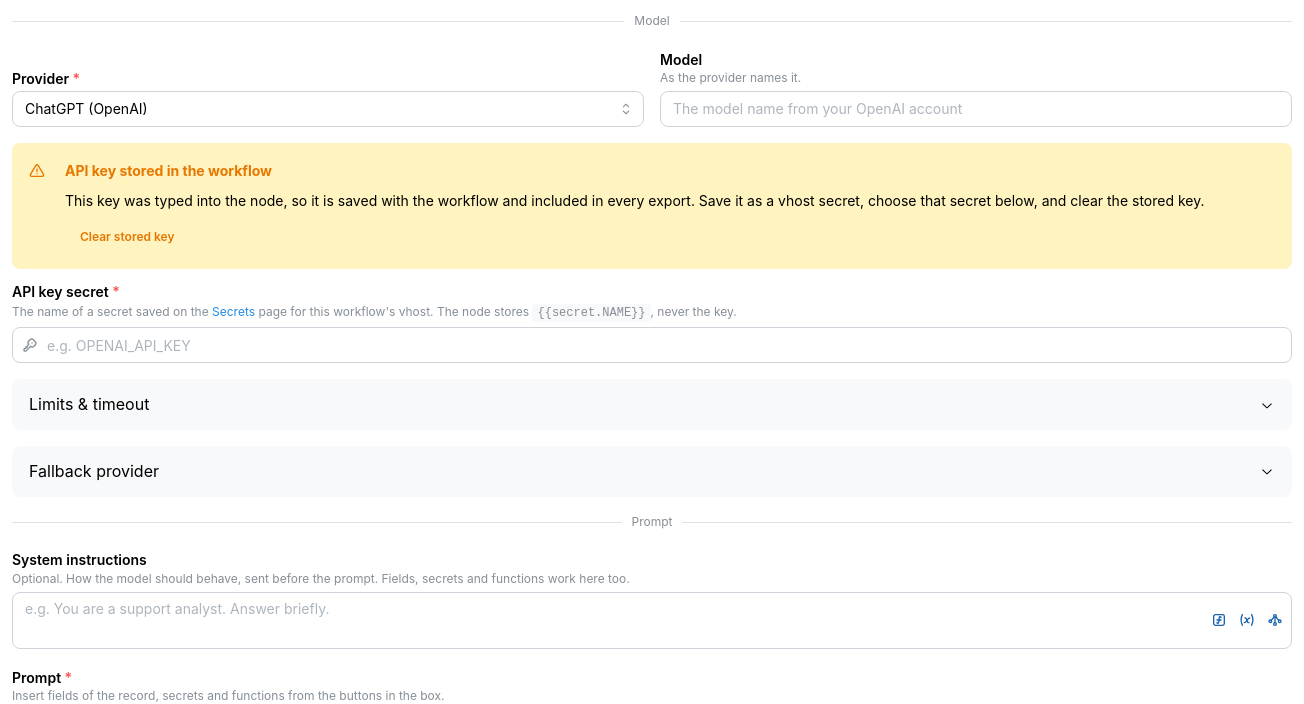
Scenario: AI connection settings › warns about a key typed into the node and can clear it
The image size is (1304, 704).
Expected: the text "API key stored in the workflow" is shown, [65, 160, 272, 182]
Expected: the text "export" is shown, [65, 192, 1204, 210]
Step 1. Click the button "Clear stored key" → (127, 237), box [65, 222, 190, 252]
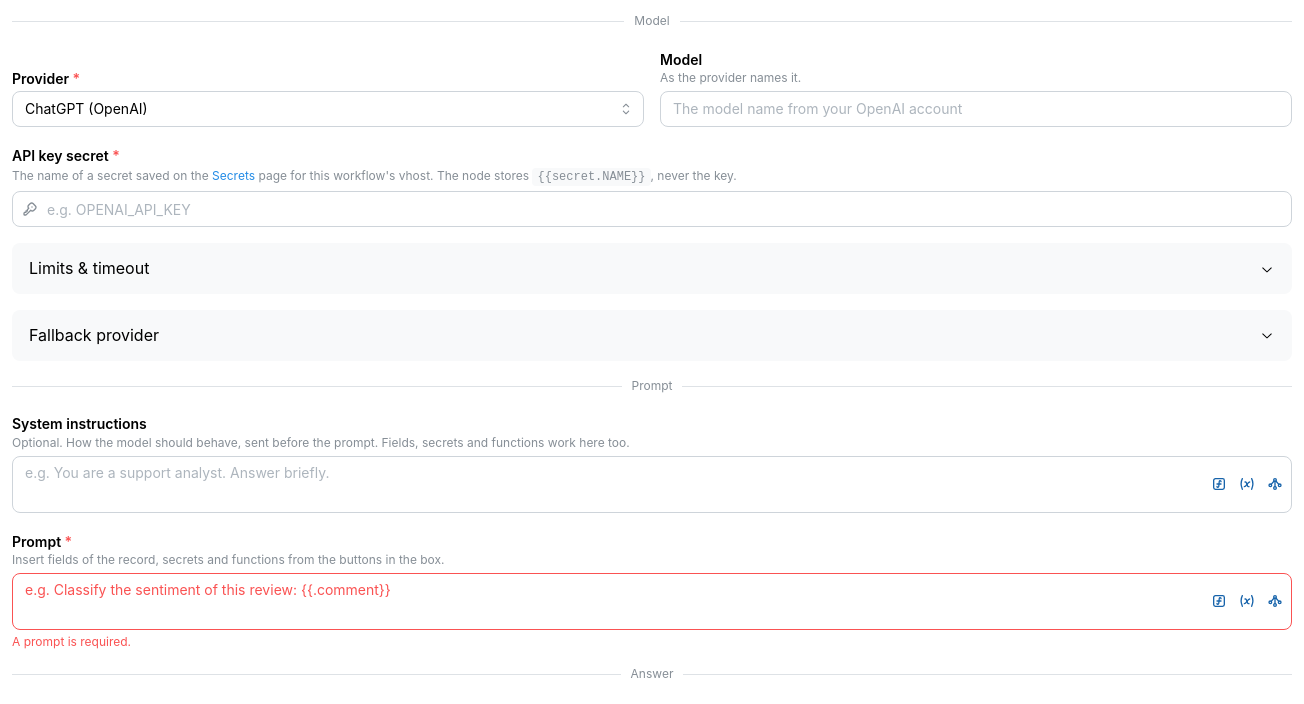
Expected: the text "stored in the workflow" is gone
